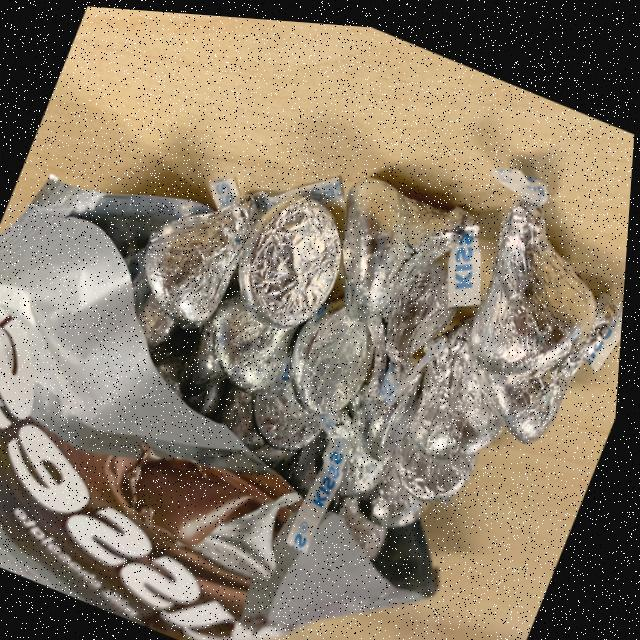kisses: (441, 138, 634, 406), (300, 143, 481, 337), (121, 161, 277, 339), (219, 169, 372, 348), (391, 318, 533, 475), (274, 278, 398, 429), (197, 278, 306, 397), (314, 394, 411, 507), (365, 442, 442, 535)
